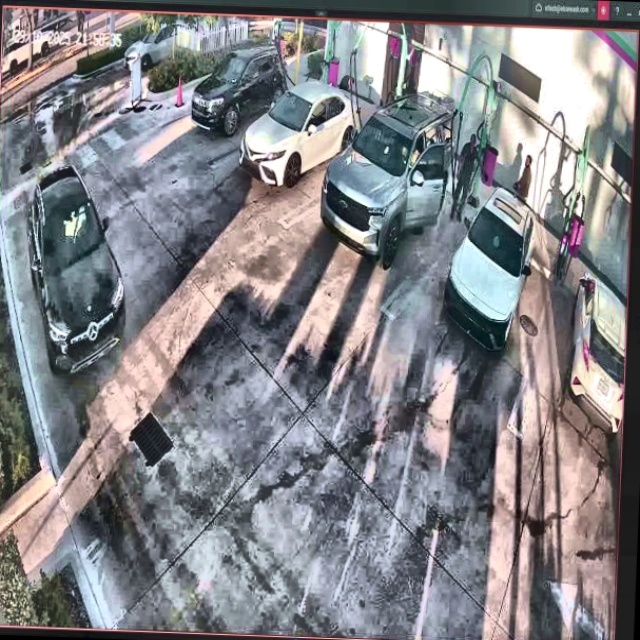Car: (319, 91, 457, 266), (445, 184, 537, 351), (241, 78, 362, 182)
